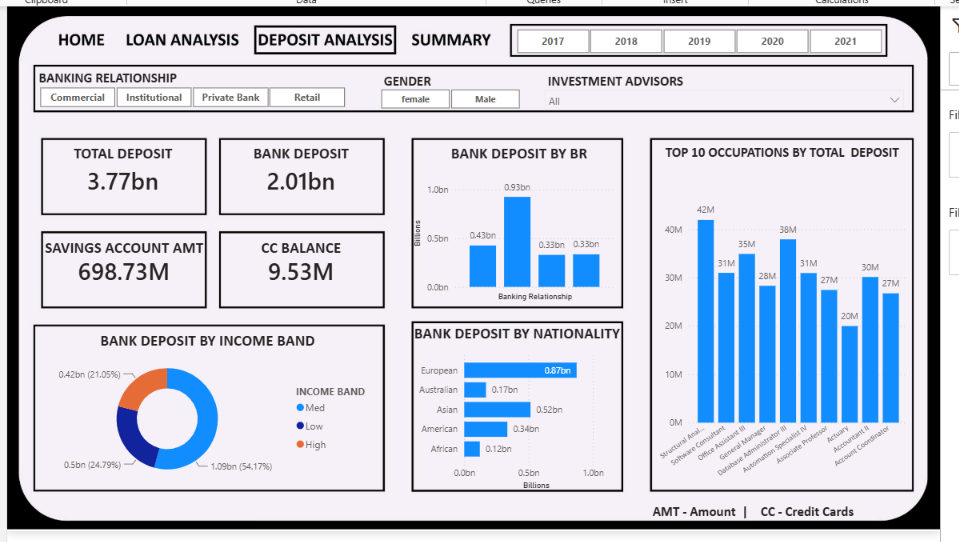

Layout of this report page (visuals, bound fields, positions):
{"tool":"powerbi","page":{"name":"DESPOSIT ANALYSIS","canvas":[1280,720],"ordinal":2},"visuals":[{"type":"slicer","fields":{"Values":["Date.Joined Bank - Copy"]},"box":[674.4,24.1,550.1,45.8],"z":0},{"type":"textbox","box":[49.4,183.9,219.6,39.8],"z":1000},{"type":"textbox","box":[293.7,183.9,219.6,39.8],"z":2000},{"type":"textbox","box":[38.4,312.9,244.3,37],"z":3000},{"type":"textbox","box":[293.7,312.9,219.6,39.8],"z":4000},{"type":"textbox","box":[38.4,440.5,473.4,39.8],"z":5000},{"type":"textbox","box":[564,183.9,277.2,39.8],"z":6000},{"type":"textbox","box":[544.8,430.9,310.1,39.8],"z":7000},{"type":"textbox","box":[886.5,183.9,354,39.8],"z":8000},{"type":"cardVisual","fields":{"Data":["BANKING_CASE.Total deposit"]},"box":[50.8,186.6,216.8,101.5],"z":9000},{"type":"cardVisual","fields":{"Data":["Sum(BANKING_CASE.Saving Accounts)"]},"box":[52.1,312.9,216.8,96.1],"z":10000},{"type":"cardVisual","fields":{"Data":["Sum(BANKING_CASE.Bank Deposits)"]},"box":[293.7,186.6,219.6,101.5],"z":11000},{"type":"cardVisual","fields":{"Data":["Sum(BANKING_CASE.Credit Card Balance)"]},"box":[293.7,312.9,219.6,96.1],"z":12000},{"type":"clusteredBarChart","fields":{"Category":["BANKING_CASE.Nationality"],"Y":["Sum(BANKING_CASE.Bank Deposits)"]},"box":[554.4,465.2,290.9,203.1],"z":13000},{"type":"columnChart","fields":{"Y":["Sum(BANKING_CASE.Bank Deposits)"],"Category":["banking_case realtionships.Banking Relationship"]},"box":[553,223.7,285.4,185.2],"z":14000},{"type":"donutChart","fields":{"Category":["BANKING_CASE.income band"],"Y":["Sum(BANKING_CASE.Bank Deposits)"]},"box":[38.4,470.7,474.8,190.7],"z":15000},{"type":"columnChart","fields":{"Y":["BANKING_CASE.Total deposit"],"Category":["BANKING_CASE.Occupation"]},"box":[886.5,255.2,354,406.2],"z":16000},{"type":"slicer","fields":{"Values":["banking_case realtionships.Banking Relationship"]},"box":[19.2,104.3,467.9,39.8],"z":17000},{"type":"textbox","box":[38.4,82.3,227.8,42.5],"z":18000},{"type":"textbox","box":[511.3,86.2,83.7,39.8],"z":19000},{"type":"slicer","fields":{"Values":["BANKING_CASE.GenderId"]},"box":[486.6,106.8,240.1,38.4],"z":20000},{"type":"textbox","box":[736.9,86.4,212.7,38.4],"z":21000},{"type":"slicer","fields":{"Values":["banking_case investment_advisiors.Investment Advisor"]},"box":[727.3,104.3,513.2,39.8],"z":22000},{"type":"actionButton","box":[52.1,24.7,100.2,39.8],"z":23000},{"type":"actionButton","box":[159.2,26.1,170.2,39.8],"z":24000},{"type":"actionButton","box":[338.9,26.1,194.9,39.8],"z":25000},{"type":"actionButton","box":[544.8,24.7,129,39.8],"z":26000},{"type":"textbox","box":[766.8,676.1,513.2,43.9],"z":27000}]}

Visuals, with their boxes on the page's 1280x720 design canvas (x1, y1, x2, y2). These are canvas units, not pixel positions in the 959x542 screenshot, which may show the page scaled, cropped or inside an application window:
slicer - Date.Joined Bank - Copy: pyautogui.locateOnScreen(674, 24, 1224, 70)
textbox: pyautogui.locateOnScreen(49, 184, 269, 224)
textbox: pyautogui.locateOnScreen(294, 184, 513, 224)
textbox: pyautogui.locateOnScreen(38, 313, 283, 350)
textbox: pyautogui.locateOnScreen(294, 313, 513, 353)
textbox: pyautogui.locateOnScreen(38, 440, 512, 480)
textbox: pyautogui.locateOnScreen(564, 184, 841, 224)
textbox: pyautogui.locateOnScreen(545, 431, 855, 471)
textbox: pyautogui.locateOnScreen(886, 184, 1240, 224)
cardVisual - BANKING_CASE.Total deposit: pyautogui.locateOnScreen(51, 187, 268, 288)
cardVisual - Sum(BANKING_CASE.Saving Accounts): pyautogui.locateOnScreen(52, 313, 269, 409)
cardVisual - Sum(BANKING_CASE.Bank Deposits): pyautogui.locateOnScreen(294, 187, 513, 288)
cardVisual - Sum(BANKING_CASE.Credit Card Balance): pyautogui.locateOnScreen(294, 313, 513, 409)
clusteredBarChart - BANKING_CASE.Nationality x Sum(BANKING_CASE.Bank Deposits): pyautogui.locateOnScreen(554, 465, 845, 668)
columnChart - Sum(BANKING_CASE.Bank Deposits) x banking_case realtionships.Banking Relationship: pyautogui.locateOnScreen(553, 224, 838, 409)
donutChart - BANKING_CASE.income band x Sum(BANKING_CASE.Bank Deposits): pyautogui.locateOnScreen(38, 471, 513, 661)
columnChart - BANKING_CASE.Total deposit x BANKING_CASE.Occupation: pyautogui.locateOnScreen(886, 255, 1240, 661)
slicer - banking_case realtionships.Banking Relationship: pyautogui.locateOnScreen(19, 104, 487, 144)
textbox: pyautogui.locateOnScreen(38, 82, 266, 125)
textbox: pyautogui.locateOnScreen(511, 86, 595, 126)
slicer - BANKING_CASE.GenderId: pyautogui.locateOnScreen(487, 107, 727, 145)
textbox: pyautogui.locateOnScreen(737, 86, 950, 125)
slicer - banking_case investment_advisiors.Investment Advisor: pyautogui.locateOnScreen(727, 104, 1240, 144)
actionButton: pyautogui.locateOnScreen(52, 25, 152, 64)
actionButton: pyautogui.locateOnScreen(159, 26, 329, 66)
actionButton: pyautogui.locateOnScreen(339, 26, 534, 66)
actionButton: pyautogui.locateOnScreen(545, 25, 674, 64)
textbox: pyautogui.locateOnScreen(767, 676, 1280, 720)
